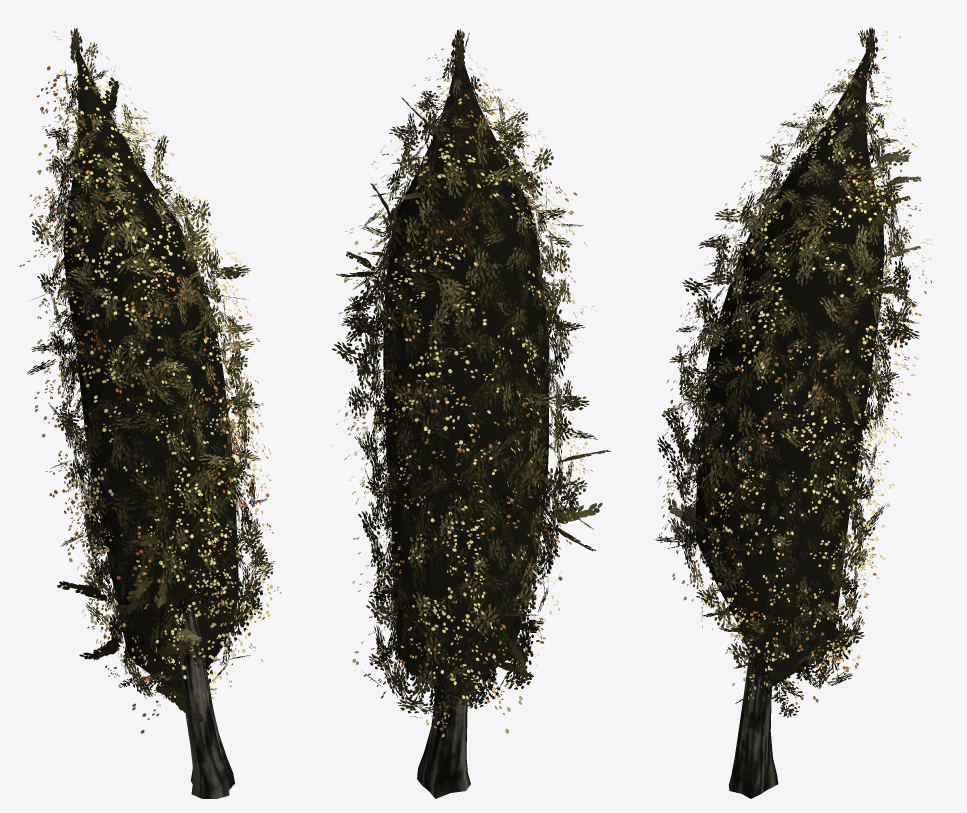
The model's file is VerTree02.glb.
3 renders of one model, left to right at view 1: azimuth 30°, elevation 25°; view 2: azimuth 150°, elevation 25°; view 3: azimuth 270°, elevation 25°, orthographic. The views are drawn at different scales.
Parts seen in each view (by area): view 1: VerTree02_leaves; view 2: VerTree02_leaves; view 3: VerTree02_leaves.
Part boxes in pixels (bbox=[...]): VerTree02_leaves: bbox=[19, 28, 281, 798]; VerTree02_leaves: bbox=[332, 29, 610, 798]; VerTree02_leaves: bbox=[655, 27, 932, 798].
Bounding box in the file's own units: 3.49 × 11.45 × 4.39.
Materials: 3 (2 with a texture image).
